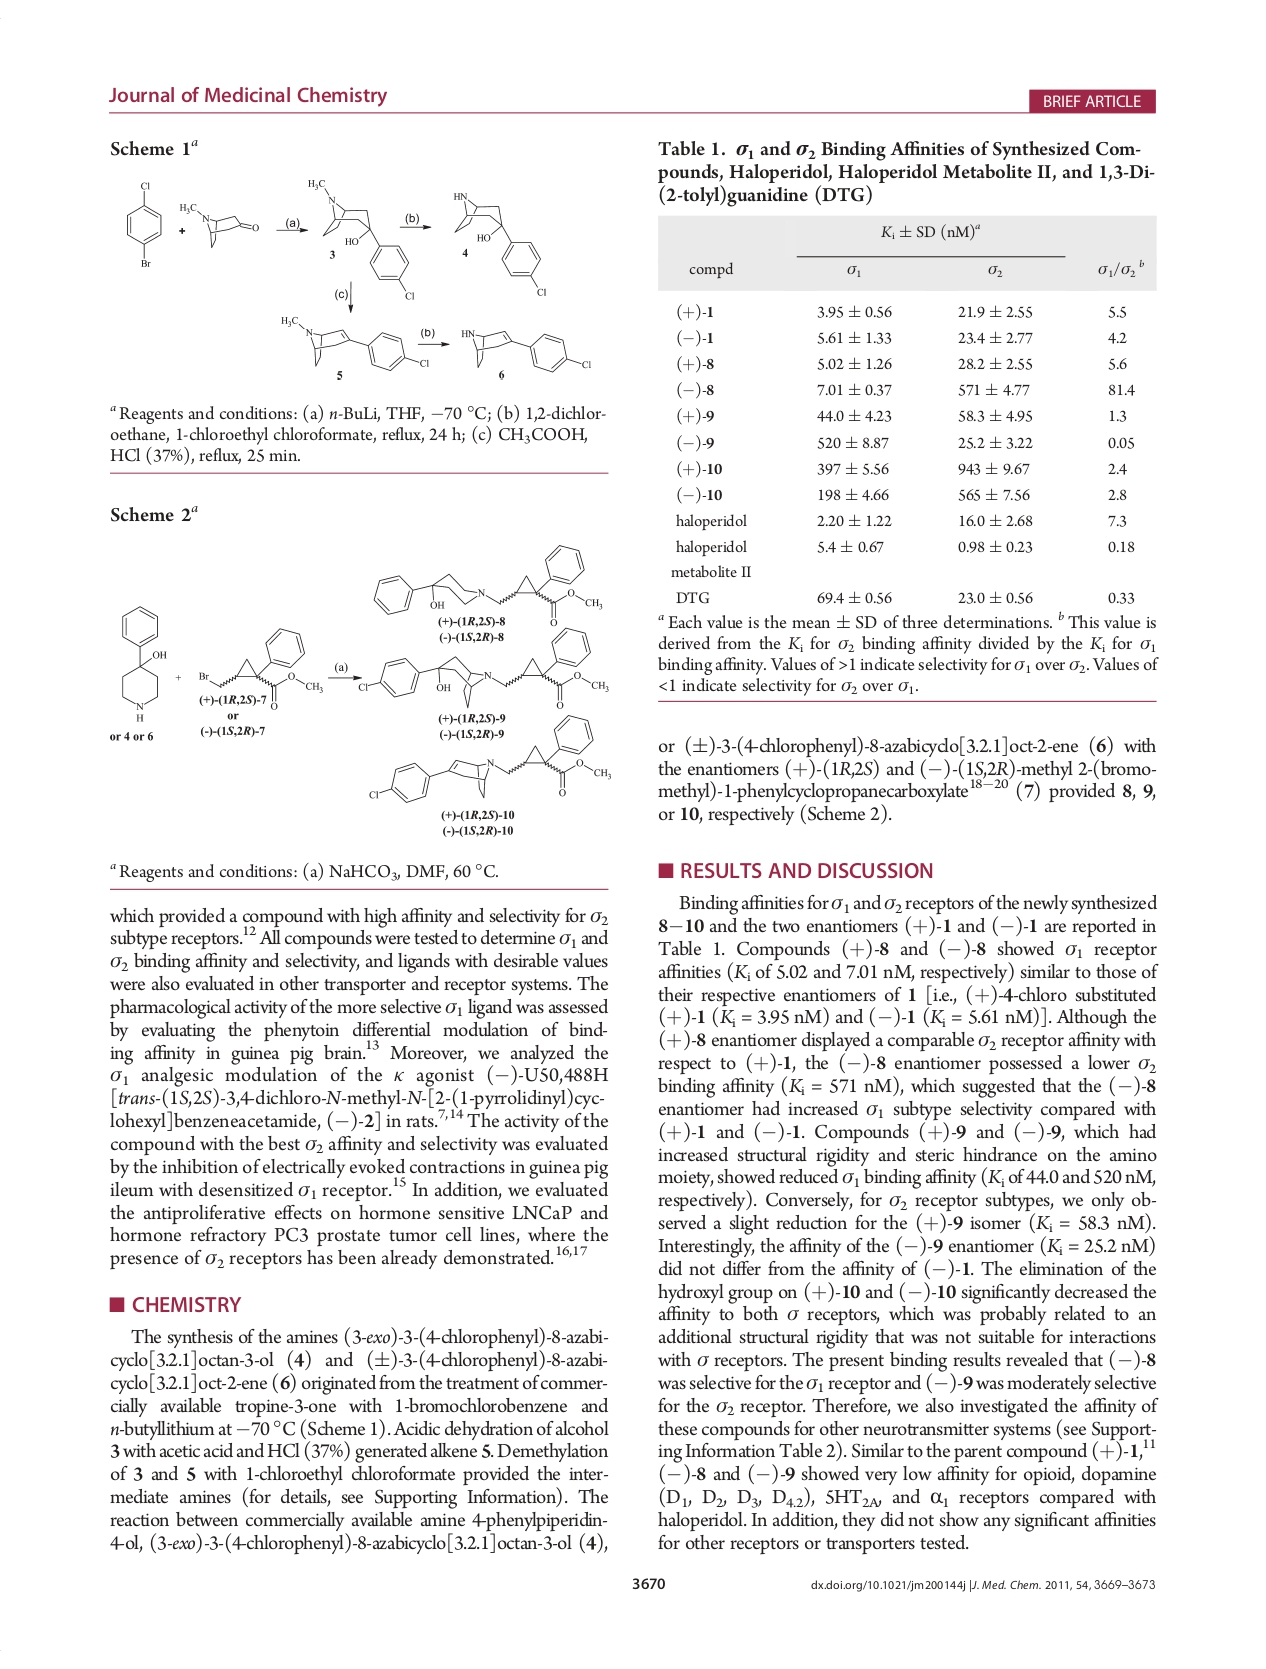exist_molecular: (367, 713, 612, 806), (356, 626, 610, 711), (371, 543, 606, 628), (305, 177, 419, 303), (447, 186, 551, 299), (195, 625, 327, 711), (278, 314, 432, 374), (110, 597, 173, 723), (459, 326, 594, 376), (178, 199, 263, 251), (122, 176, 168, 271)
